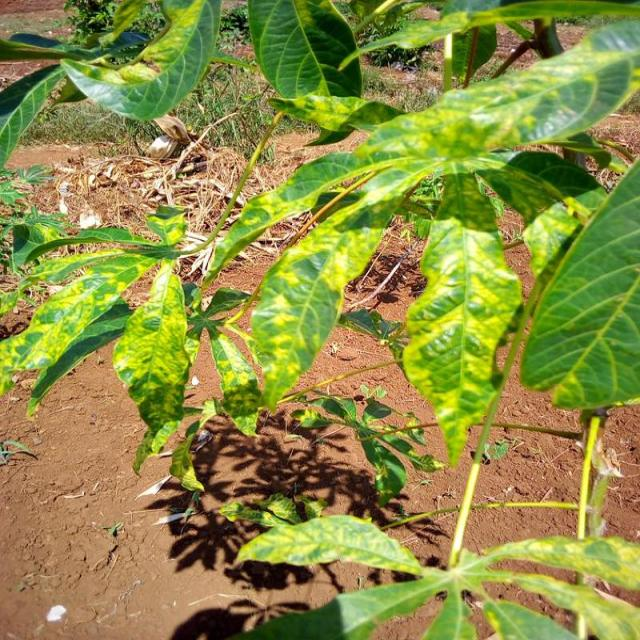cassava leaf: (518, 154, 640, 410), (402, 213, 524, 468), (59, 0, 222, 122), (110, 260, 190, 454)
